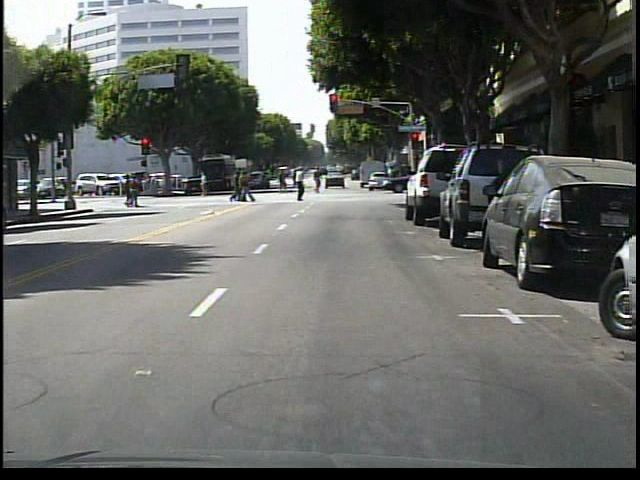person: (287, 165, 309, 203), (193, 168, 212, 198), (308, 166, 327, 196)
